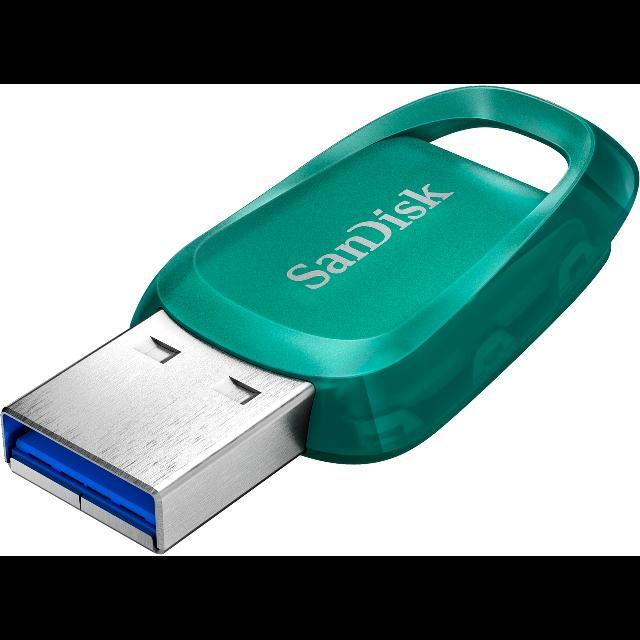USB-Flash-Drive: (0, 85, 640, 556)
